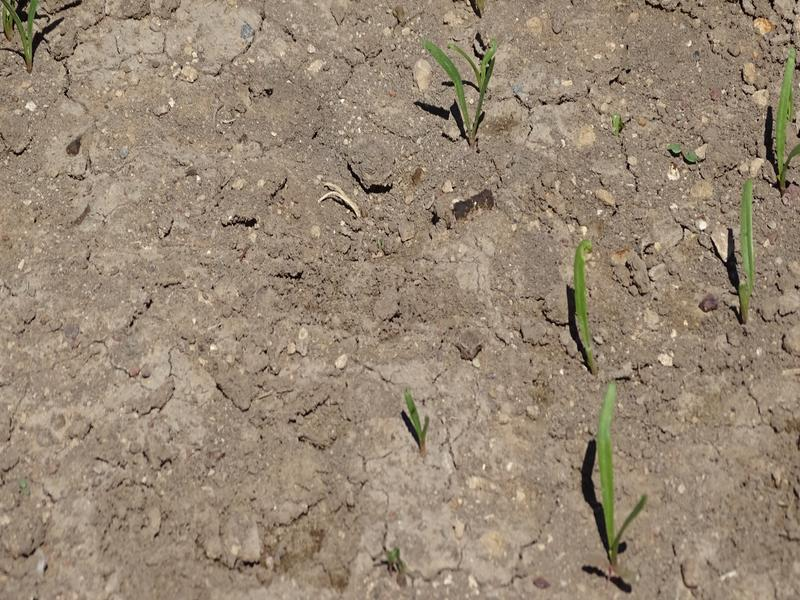Espinaca: (423, 31, 502, 140), (590, 384, 634, 551), (729, 178, 770, 309), (773, 42, 797, 184), (573, 241, 595, 360)
